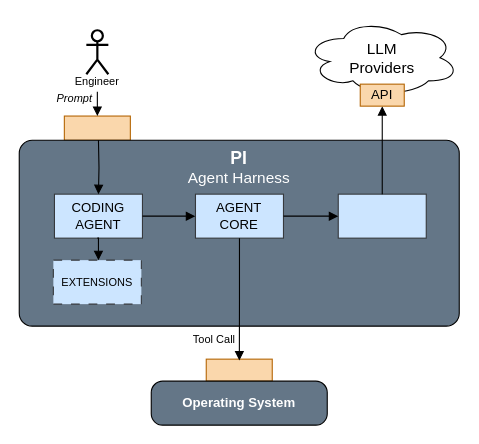
Image size: 479x444. Some labels were removed from this diagram. The shapes that lost their labels are listed below. From the top down, each one's centre as x and y in pixels, then its label:
point 96,127: TUI
point 381,215: AI
point 238,369: SHELL
